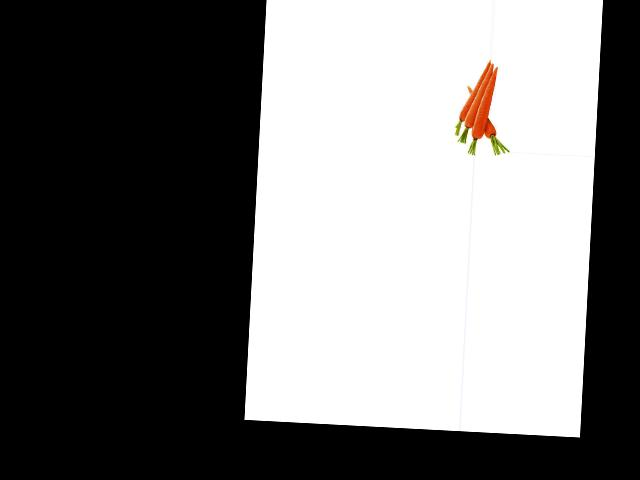carrot: (479, 115, 504, 148)
